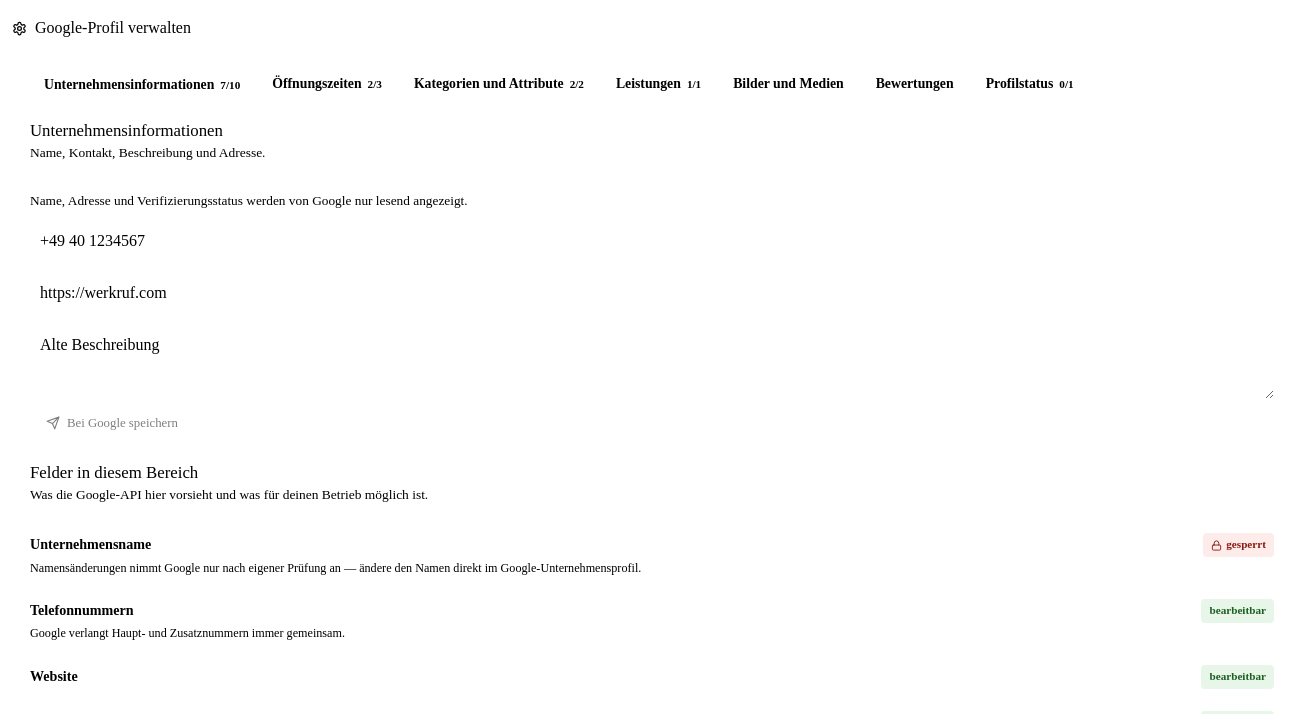
Test case: Zustandsdarstellung › behauptet keine Veroeffentlichung, sondern nur die Uebermittlung
(page scrolled)
Replace the text in the text box named "Unternehmensbeschreibung" with "Neue Beschreibung" at (652, 361), box [30,323,1274,399]
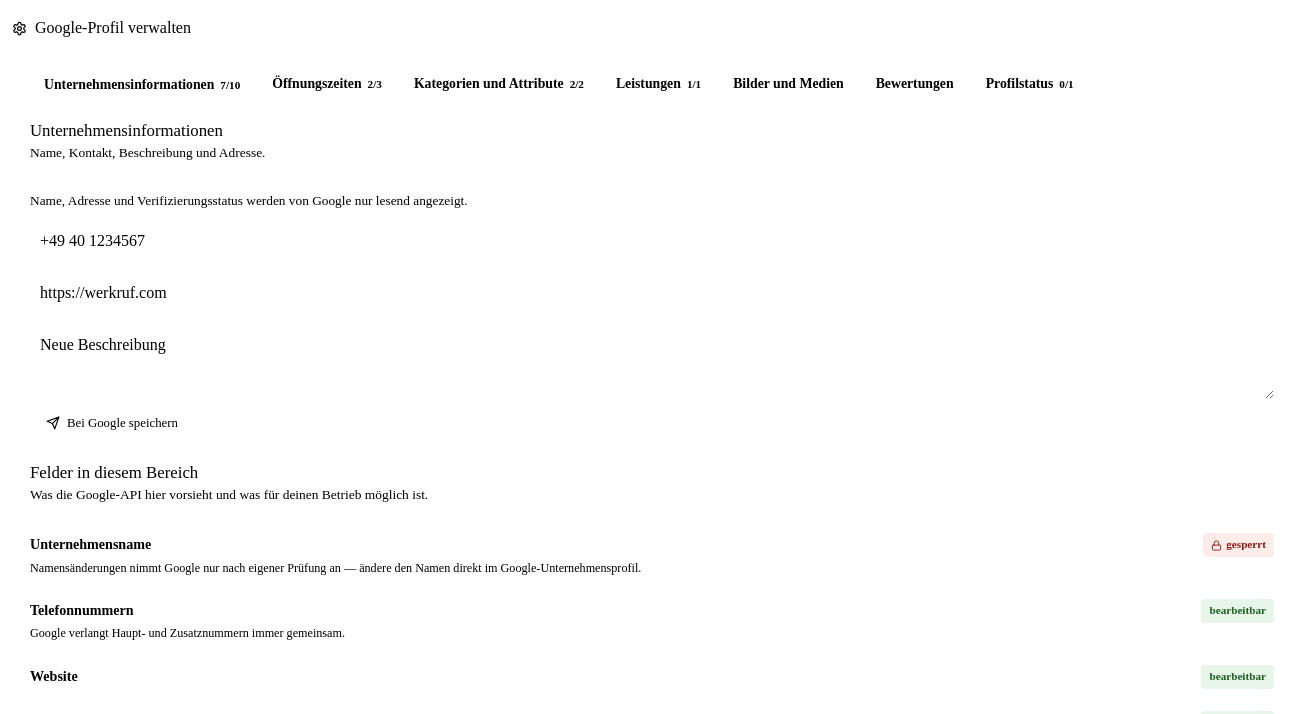
Click the button "Bei Google speichern" at (112, 423), box [30,407,194,440]
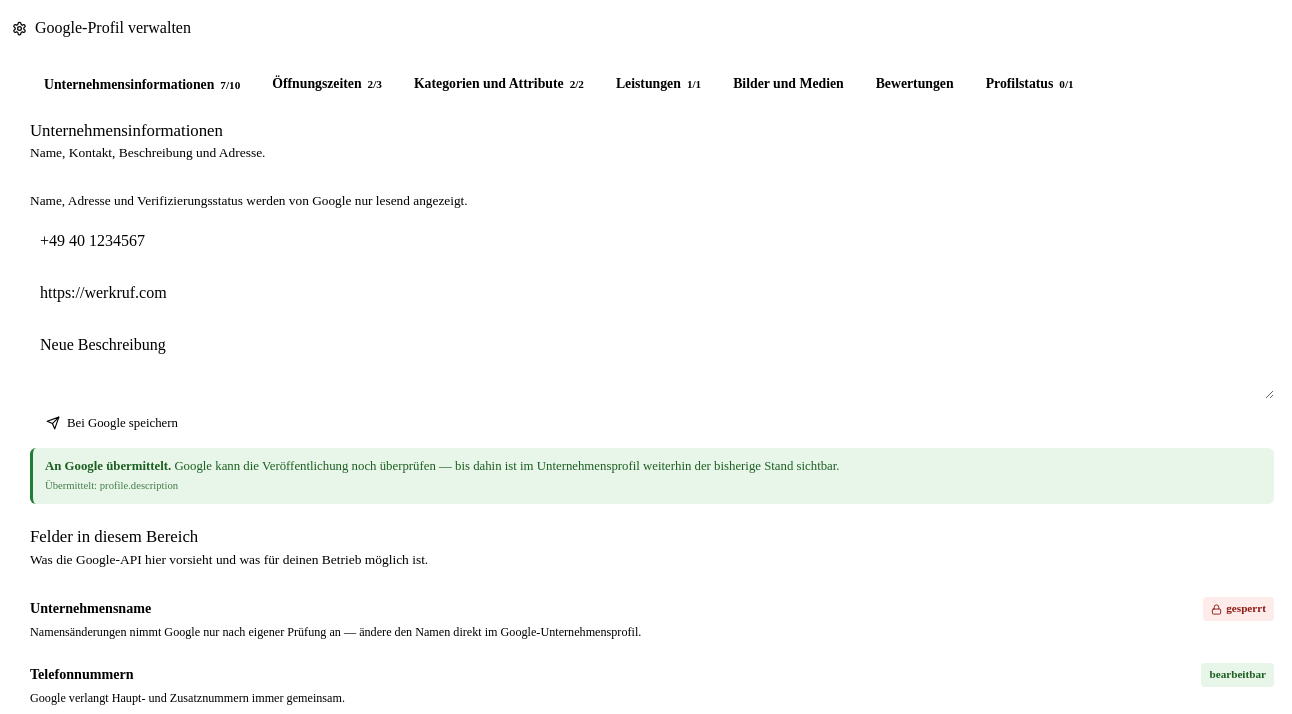
Expected: the text "An Google übermittelt" does not show "Von Google bestätigt", [30,448,1274,504]
Now the text "An Google übermittelt" shows "Veröffentlichung noch überprüfen", box [174,459,840,473]
